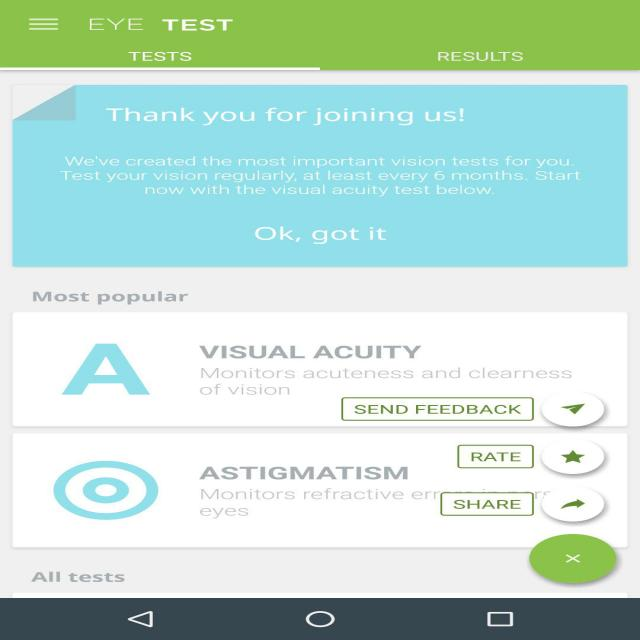button: (340, 398, 605, 423), (436, 485, 598, 513), (534, 538, 619, 585), (457, 444, 603, 468)
icon: (538, 539, 615, 582), (1, 0, 80, 39), (542, 442, 608, 474), (540, 490, 607, 517), (546, 394, 602, 426)
image: (20, 87, 624, 266), (0, 0, 635, 69), (35, 328, 174, 410), (32, 454, 172, 535)
text: (39, 100, 598, 253), (184, 335, 586, 398), (174, 466, 436, 530), (372, 363, 506, 454), (23, 284, 195, 312), (78, 11, 260, 33), (430, 44, 566, 70), (20, 564, 147, 590), (122, 42, 225, 65)
